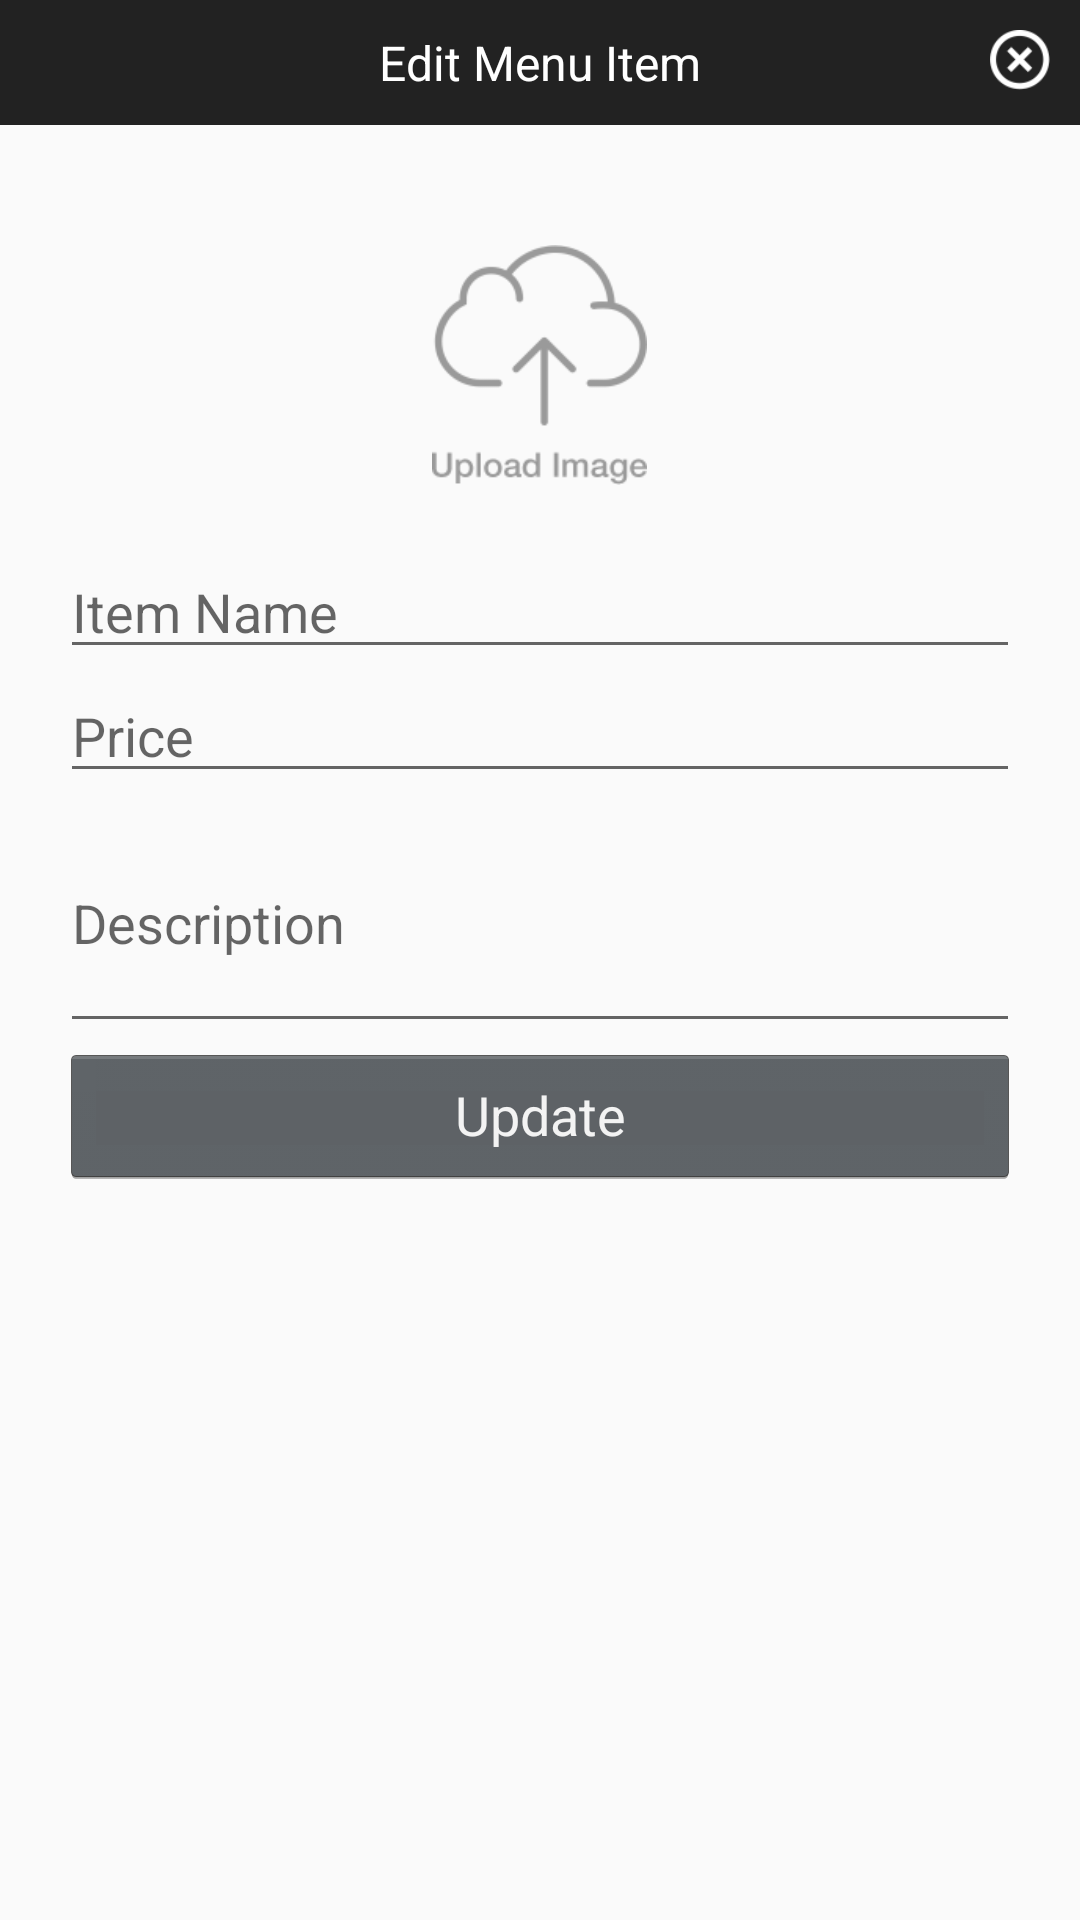

Where icons sit on this 1080px×1920px app screen, as BBox(x1, y1, x2, y2):
close: BBox(990, 30, 1050, 90)
